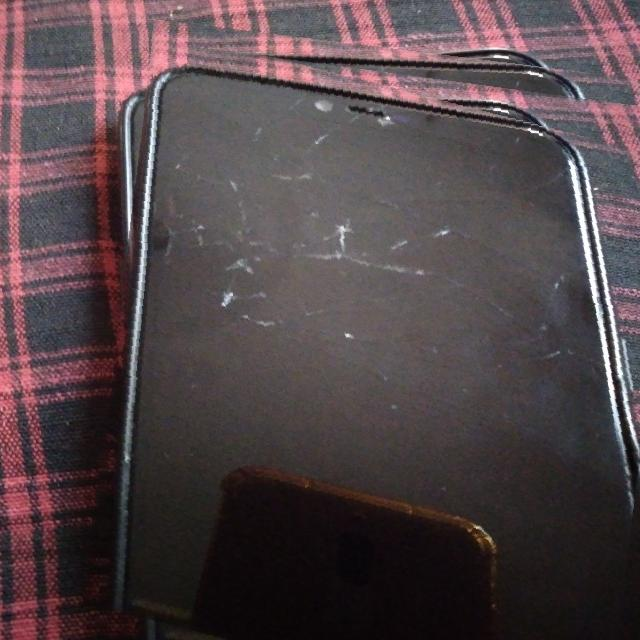Crack: (355, 122, 589, 403), (154, 110, 344, 320)
